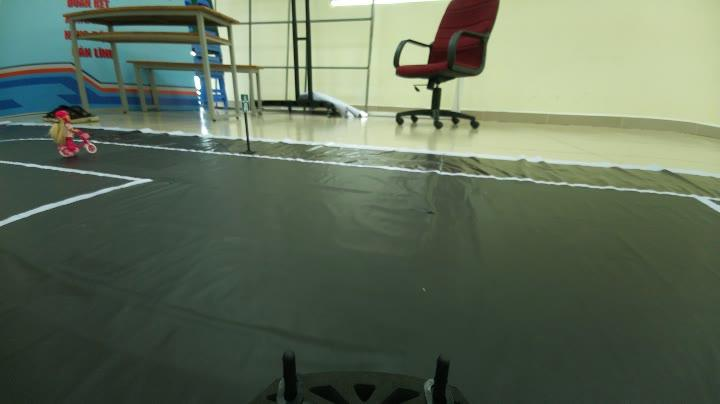pedestrian: (45, 109, 93, 161)
